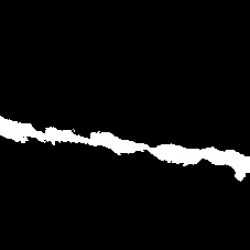crack: (2, 116, 250, 182)
